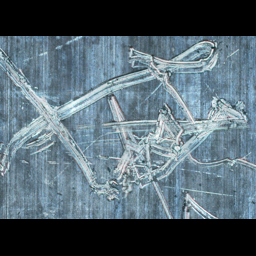d: (0, 59, 119, 195), (92, 99, 195, 202), (120, 39, 225, 89), (191, 92, 252, 137), (184, 143, 255, 171), (173, 185, 224, 219)
